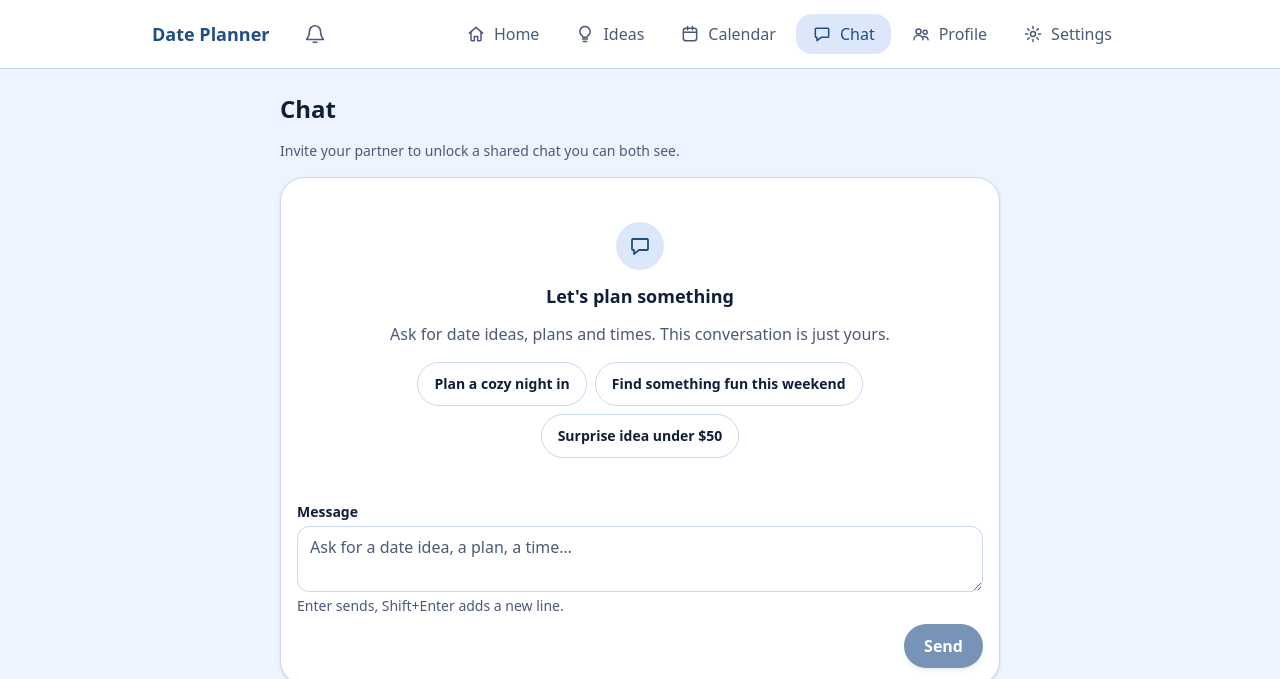
ChatPage sending › explains a 429 before the stream starts
Type "Plan something" into the text box labelled "Message". click: point(640, 559)
box: [297, 526, 983, 592]
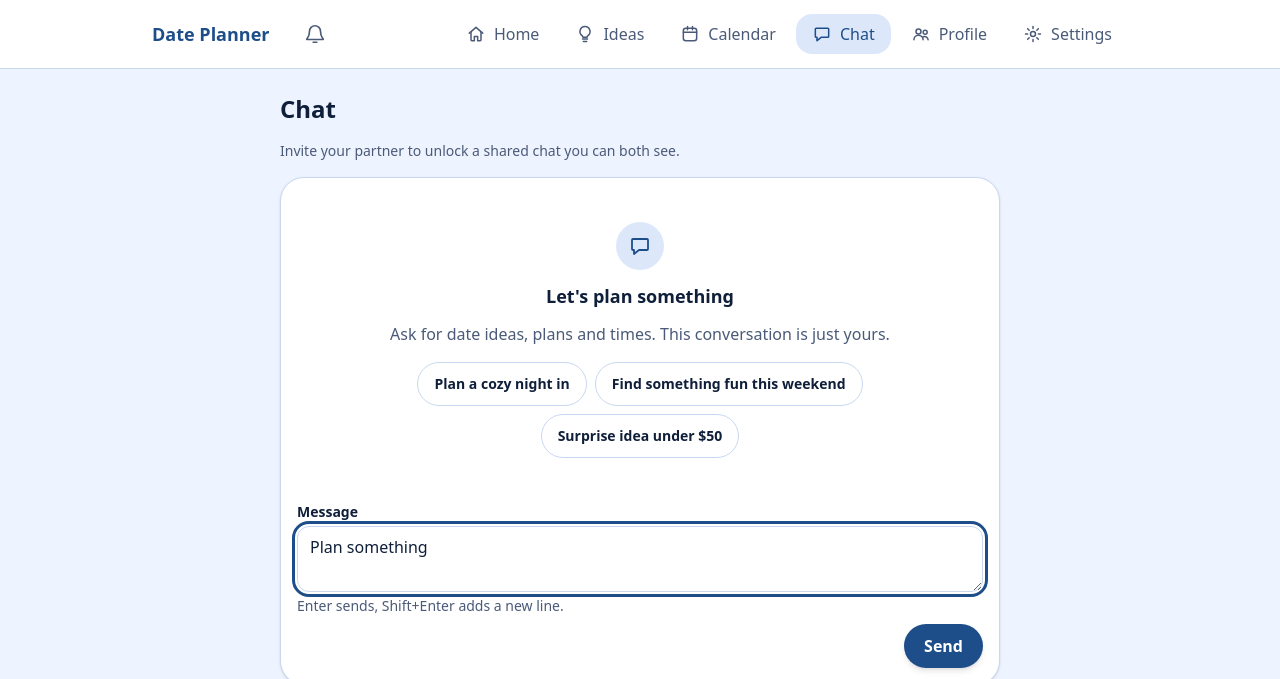
Now the button "Send" is enabled
Click the button "Send". click: point(944, 646)
box: [904, 624, 983, 668]
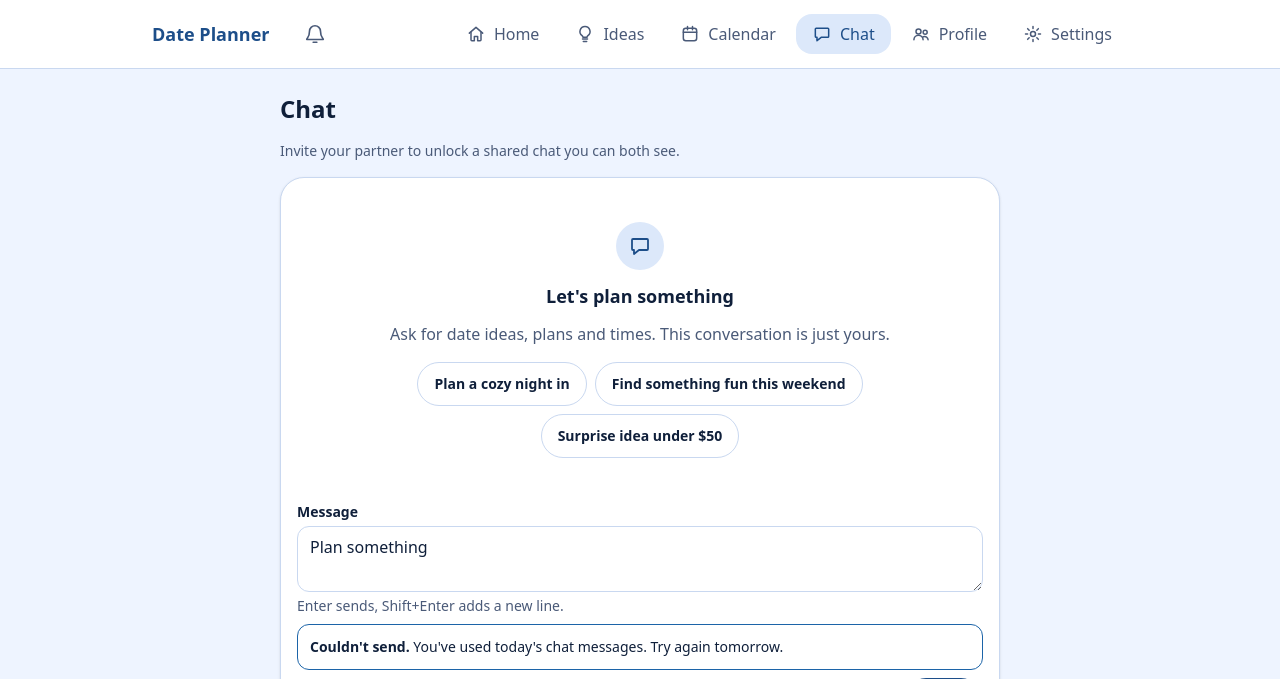
Now the message shows "You've used today's chat messages. Try again tomorrow.", box [413, 637, 783, 656]
